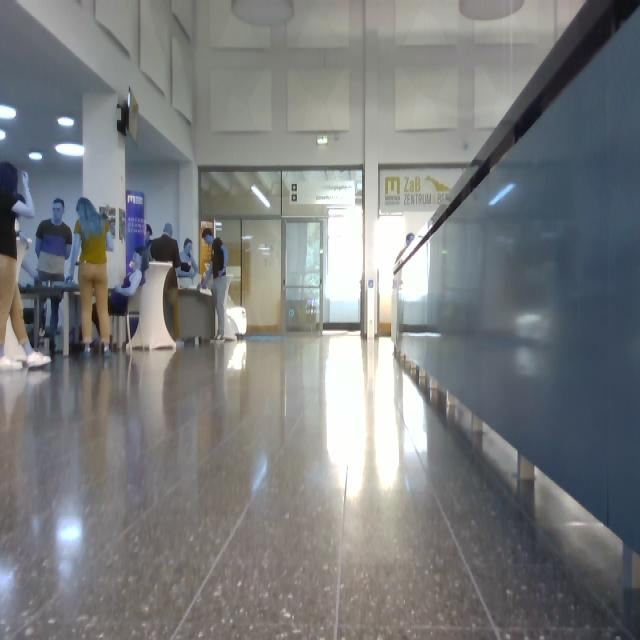door: (284, 221, 325, 332), (242, 221, 282, 334)
light bulb: (232, 1, 294, 28), (460, 1, 525, 21), (489, 184, 515, 205), (253, 185, 271, 209), (56, 144, 84, 157), (59, 117, 75, 128), (318, 136, 327, 145)
person: (1, 162, 50, 369), (71, 198, 111, 353), (36, 198, 72, 285), (202, 229, 228, 340), (109, 248, 149, 314), (45, 293, 62, 356), (177, 240, 198, 282), (41, 300, 47, 329)
pillar: (84, 96, 126, 284)
staircase: (395, 1, 640, 634)
table: (132, 262, 176, 348)
tiled floor: (1, 337, 630, 640)
